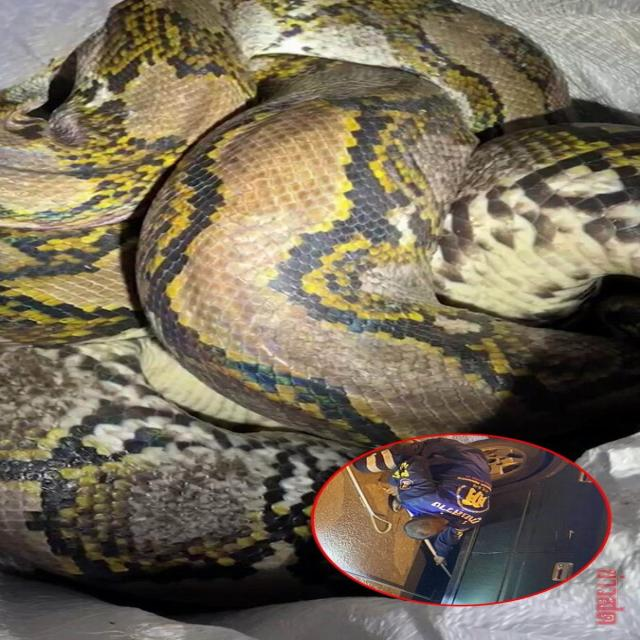Non-Venomous: (264, 104, 555, 269)
